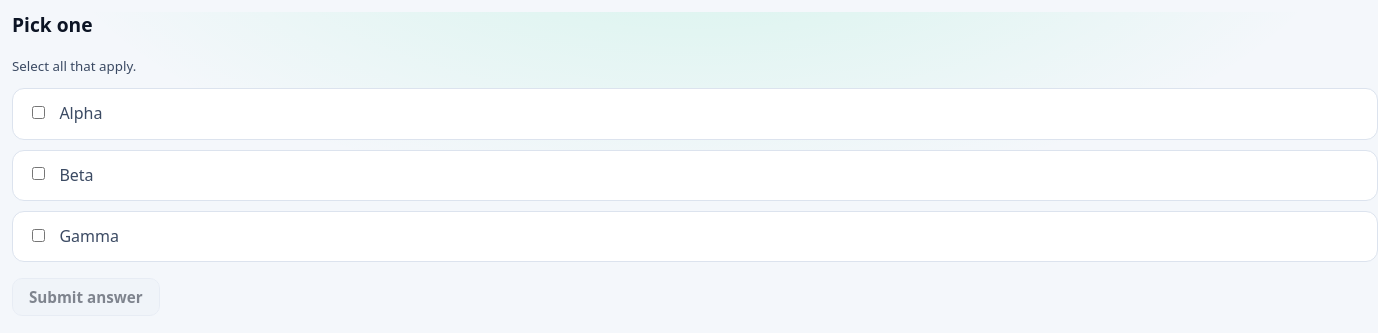
Test case: MultiResponse › can untick an option
The width and height of the screenshot is (1378, 333).
Click the checkbox labelled "Alpha" at [39, 113], box [32,106,45,119]
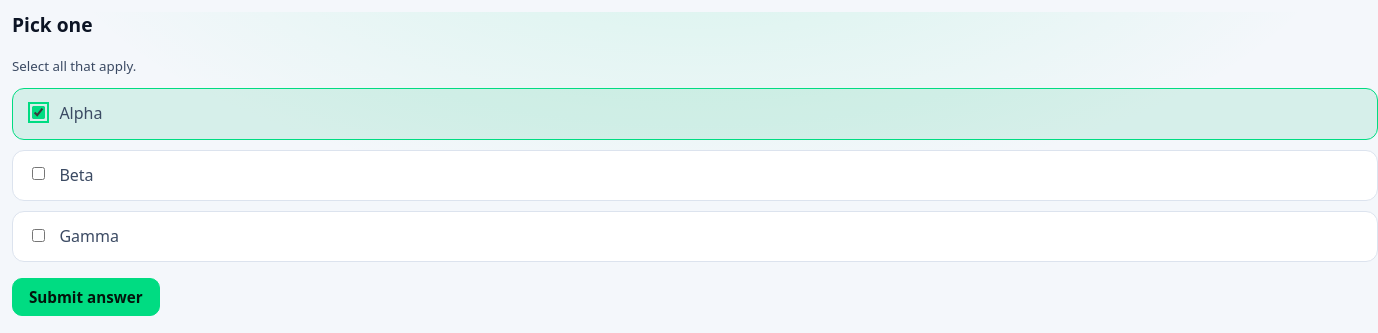
Click the checkbox labelled "Alpha" at [39, 113], box [32,106,45,119]
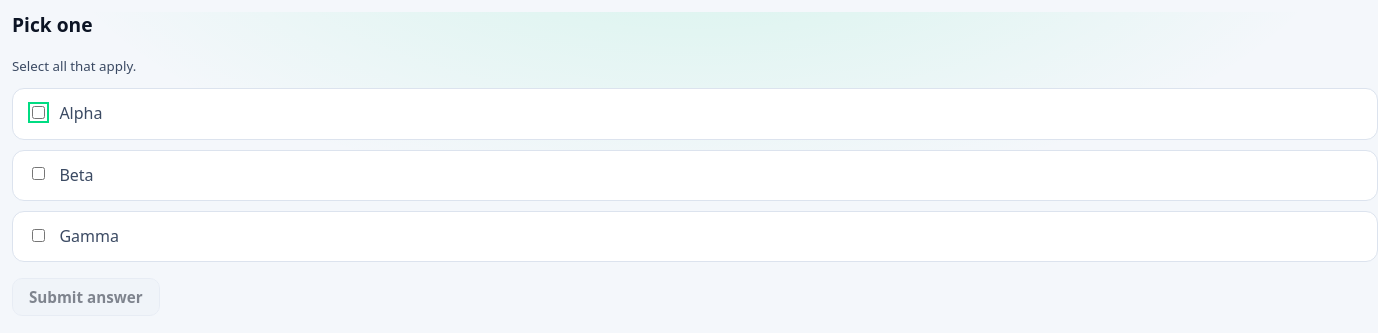
expect the button "Submit answer" is disabled: met, box [12,278,160,316]
